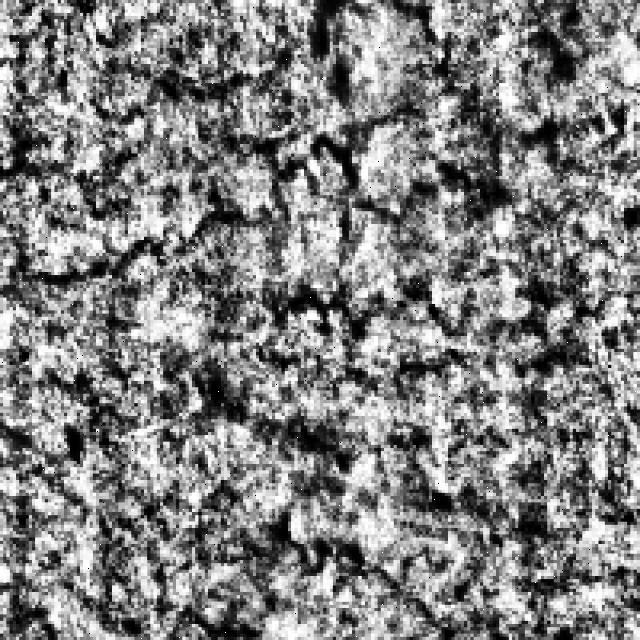Pitted_Surface: (16, 0, 528, 333), (215, 153, 618, 410), (92, 384, 550, 598)
